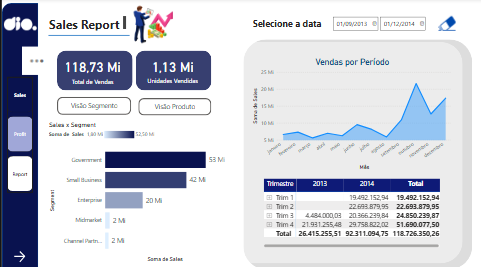

This screenshot's page, from the dashboard's own definition file:
{"tool":"powerbi","page":{"name":"Sales","canvas":[1280,720],"ordinal":0},"visuals":[{"type":"group","id":"g1","title":"Layout","box":[0,-0.5,511.4,720],"z":0},{"type":"shape","box":[0,13.4,96.4,706.2],"z":0,"group":"g1"},{"type":"slicer","fields":{"Values":["financials.Date"]},"box":[867.2,38.7,272.2,55],"z":0,"group":"g3"},{"type":"shape","box":[123.8,84.5,217.2,33],"z":0,"group":"g4"},{"type":"shape","box":[147.2,142.2,201.4,106.8],"z":0,"group":"g2"},{"type":"areaChart","title":"Vendas por Período","fields":{"Category":["financials.Date.Variation.Hierarquia de datas.Ano","financials.Date.Variation.Hierarquia de datas.Mês"],"Y":["Sum(financials. Sales)"]},"box":[661.6,156.1,539.7,306.2],"z":0,"group":"g6"},{"type":"clusteredBarChart","title":"Sales x Segment","fields":{"Category":["financials.Segment"],"Y":["Sum(financials. Sales)"]},"box":[120.4,323.9,479.3,383],"z":0,"group":"g5"},{"type":"image","title":"logo_dio","box":[0,35.7,98.2,63.2],"z":1000,"group":"g1"},{"type":"textbox","box":[120.4,43.1,215.2,48.5],"z":1000,"group":"g4"},{"type":"textbox","box":[661.6,44.7,199.6,45.6],"z":1000,"group":"g3"},{"type":"shape","box":[355.9,142.2,201.4,106.8],"z":1000,"group":"g2"},{"type":"actionButton","title":"Botão - Next","box":[25.9,669,48.8,39.6],"z":1000},{"type":"image","box":[322.6,-0.5,188.8,141.2],"z":2000,"group":"g1"},{"type":"actionButton","box":[1153.4,43.3,59.9,51.3],"z":2000,"group":"g3"},{"type":"group","id":"g2","title":"Cartões","box":[147.2,141.2,410.3,107],"z":2000},{"type":"card","fields":{"Values":["Sum(financials. Sales)"]},"box":[161.1,141.2,162.6,106.9],"z":2000,"group":"g2"},{"type":"actionButton","title":"B-Segmento","box":[147.8,261.6,197.5,48.4],"z":2000,"group":"g5"},{"type":"group","id":"g3","title":"Filtro por data","box":[661.6,38.7,551.5,55],"z":3000},{"type":"image","title":"clean","box":[1153.4,39,59.9,55.6],"z":3000,"group":"g3"},{"type":"card","fields":{"Values":["Sum(financials.Units Sold)"]},"box":[375.8,145.4,156.5,98.6],"z":3000,"group":"g2"},{"type":"actionButton","title":"B-Produto","box":[362.2,264.3,194.6,46.3],"z":3000,"group":"g5"},{"type":"shape","box":[640.7,108.5,609.5,612.5],"z":4000},{"type":"group","id":"g4","title":"Title report","box":[120.4,43.1,221.5,74.3],"z":5000},{"type":"group","id":"g5","title":"Grupo 1","box":[120.4,261.6,478.7,446],"z":6000},{"type":"shape","box":[584.3,117.4,640.7,590.2],"z":7000},{"type":"group","id":"g6","title":"Perspectiva temporal das vendas","box":[661.6,156.1,539.7,306.2],"z":8000},{"type":"pivotTable","fields":{"Columns":["financials.Date.Variation.Hierarquia de datas.Ano"],"Rows":["financials.Date.Variation.Hierarquia de datas.Trimestre","financials.Date.Variation.Hierarquia de datas.Mês"],"Values":["Sum(financials. Sales)"]},"box":[692.8,475.7,478.7,193.3],"z":9000},{"type":"pageNavigator","box":[13.4,211.1,69.9,306.2],"z":10000}]}

Visuals, with their boxes in screenshot pixels (x1, y1, x2, y2), scaled from the page's 1280x720 canvas onto the 481x267 screenshot:
"Layout" group: [0,0,192,266]
shape: [0,5,36,266]
slicer - financials.Date: [326,14,428,35]
shape: [47,31,128,44]
shape: [55,53,131,92]
"Vendas por Período" areaChart: [249,58,451,171]
"Sales x Segment" clusteredBarChart: [45,120,225,262]
"logo_dio" image: [0,13,37,37]
textbox: [45,16,126,34]
textbox: [249,17,324,33]
shape: [134,53,209,92]
"Botão - Next" actionButton: [10,248,28,263]
image: [121,0,192,52]
actionButton: [433,16,456,35]
"Cartões" group: [55,52,209,92]
card - Sum(financials. Sales): [61,52,122,92]
"B-Segmento" actionButton: [56,97,130,115]
"Filtro por data" group: [249,14,456,35]
"clean" image: [433,14,456,35]
card - Sum(financials.Units Sold): [141,54,200,90]
"B-Produto" actionButton: [136,98,209,115]
shape: [241,40,470,266]
"Title report" group: [45,16,128,44]
"Grupo 1" group: [45,97,225,262]
shape: [220,44,460,262]
"Perspectiva temporal das vendas" group: [249,58,451,171]
pivotTable - financials.Date.Variation.Hierarquia de datas.Ano x financials.Date.Variation.Hierarquia de datas.Trimestre: [260,176,440,248]
pageNavigator: [5,78,31,192]
